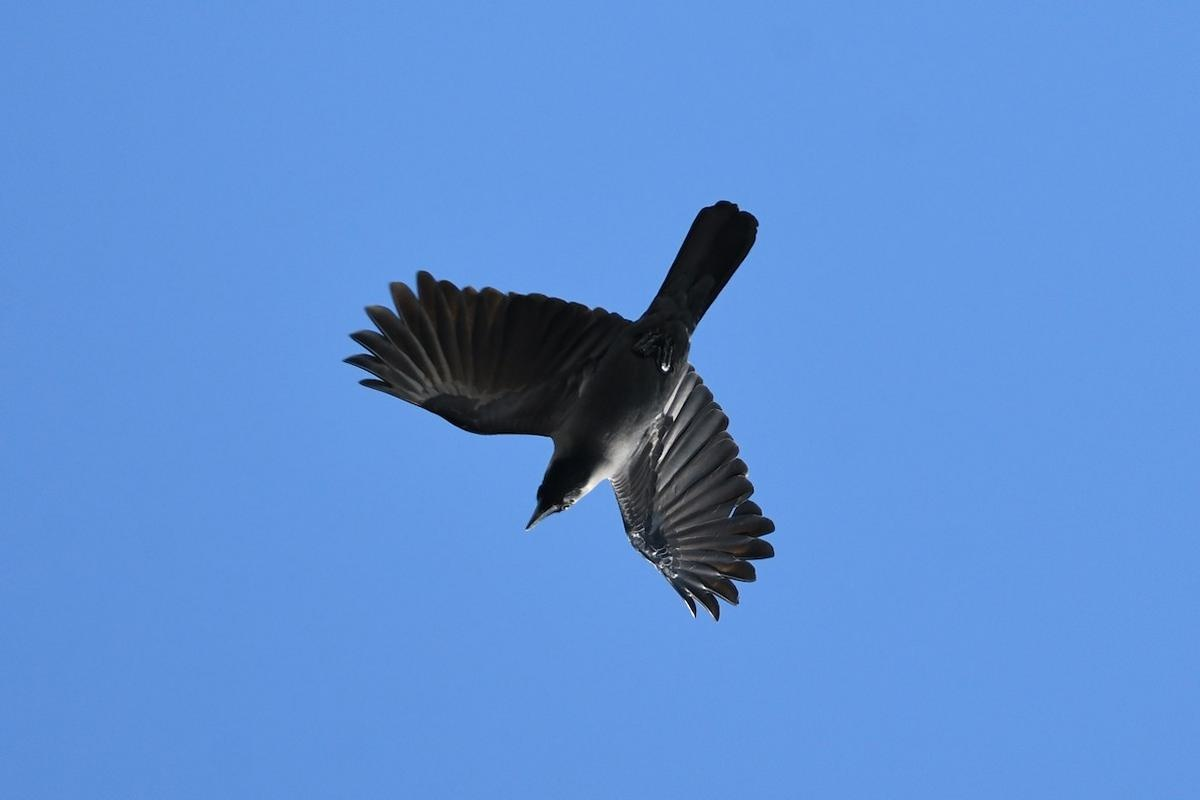crow: (343, 181, 792, 640)
